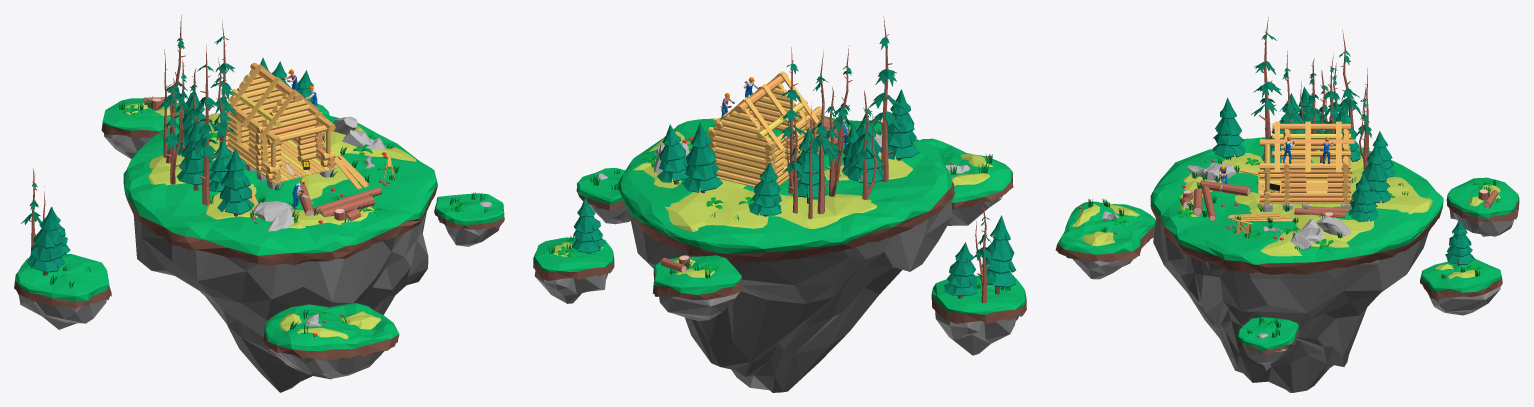
Rendered from land_27.fbx.
The picture shows the model from 3 angles, left to right: view 1: azimuth 30°, elevation 25°; view 2: azimuth 150°, elevation 25°; view 3: azimuth 270°, elevation 25°; orthographic projection. The views are drawn at different scales.
Visible parts, largest first — view 1: land_26.003, polySurface12468, polySurface12469, polySurface12471, polySurface12470.001, pasted__polySurface6051, pasted__polySurface6046.001, pCube3679.001, pasted__polySurface6050.001, pCube3703.001, pCylinder824.001, polySurface12385.001 (+11 smaller); view 2: land_26.003, polySurface12469, polySurface12470.001, polySurface12470, polySurface12468, polySurface12471, pasted__polySurface6054, pasted__polySurface6051, pCube3679.001, pasted__polySurface6046.001, pasted__polySurface6050.001, pasted__polySurface6045.001 (+14 smaller); view 3: land_26.003, polySurface12468, polySurface12470, polySurface12470.001, polySurface12471, pCylinder823.001, pasted__polySurface6046.001, pasted__polySurface6054, pasted__polySurface6045.001, pCube3679.001, pasted__polySurface6053, pCylinder824.001 (+13 smaller).
Part boxes in pixels (bbox=[...]): land_26.003: bbox=[123, 113, 437, 392]; polySurface12468: bbox=[263, 303, 399, 378]; polySurface12469: bbox=[14, 254, 111, 329]; polySurface12471: bbox=[434, 193, 504, 246]; polySurface12470.001: bbox=[101, 98, 180, 159]; pasted__polySurface6051: bbox=[26, 207, 64, 275]; pasted__polySurface6046.001: bbox=[217, 148, 254, 216]; pCube3679.001: bbox=[187, 45, 220, 205]; pasted__polySurface6050.001: bbox=[176, 118, 213, 190]; pCube3703.001: bbox=[225, 65, 296, 140]; pCylinder824.001: bbox=[227, 112, 280, 181]; polySurface12385.001: bbox=[163, 78, 186, 184]; land_26.003: bbox=[618, 116, 954, 392]; polySurface12469: bbox=[931, 275, 1026, 355]; polySurface12470.001: bbox=[652, 255, 741, 321]; polySurface12470: bbox=[533, 237, 614, 303]; polySurface12468: bbox=[919, 138, 1013, 225]; polySurface12471: bbox=[576, 168, 630, 224]; pasted__polySurface6054: bbox=[682, 122, 722, 193]; pasted__polySurface6051: bbox=[979, 215, 1016, 294]; pCube3679.001: bbox=[868, 16, 903, 182]; pasted__polySurface6046.001: bbox=[880, 89, 919, 160]; pasted__polySurface6050.001: bbox=[847, 113, 883, 188]; pasted__polySurface6045.001: bbox=[657, 124, 688, 184]; land_26.003: bbox=[1150, 137, 1443, 392]; polySurface12468: bbox=[1055, 201, 1155, 279]; polySurface12470: bbox=[1420, 258, 1502, 315]; polySurface12470.001: bbox=[1446, 177, 1519, 236]; polySurface12471: bbox=[1237, 317, 1299, 364]; pCylinder823.001: bbox=[1259, 169, 1350, 202]; pasted__polySurface6046.001: bbox=[1213, 97, 1245, 158]; pasted__polySurface6054: bbox=[1362, 143, 1390, 203]; pasted__polySurface6045.001: bbox=[1348, 174, 1378, 221]; pCube3679.001: bbox=[1251, 17, 1281, 139]; pasted__polySurface6053: bbox=[1445, 219, 1474, 265]; pCylinder824.001: bbox=[1259, 145, 1350, 178].
Bounding box in the file's own units: 27.81 × 22.13 × 27.63.
